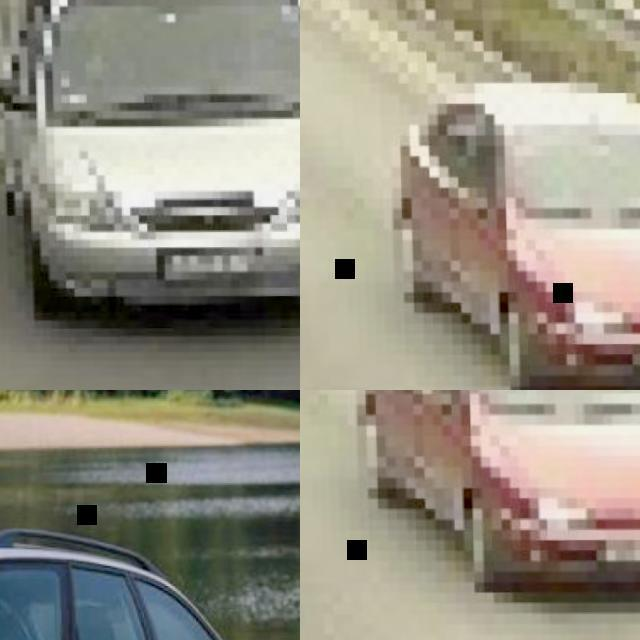car: (4, 0, 301, 320), (0, 525, 246, 639)
